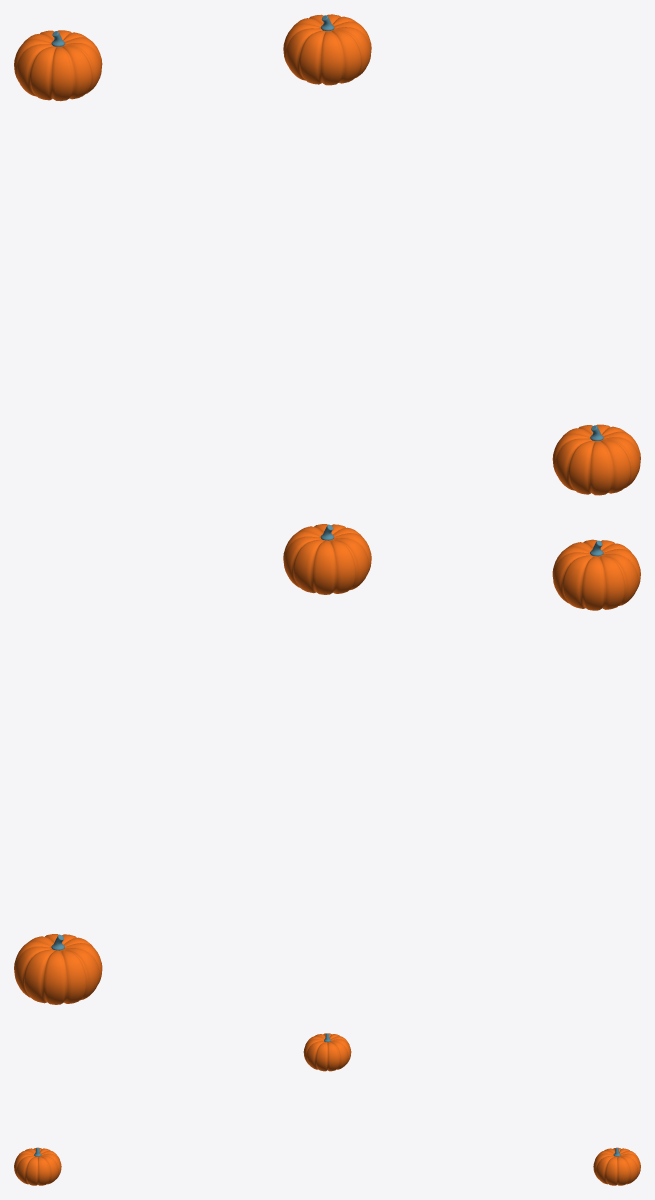
Rendered from PUMPKIN.fbx.
3 renders of one model, top to bottom at view 1: azimuth 30°, elevation 25°; view 2: azimuth 150°, elevation 25°; view 3: azimuth 270°, elevation 25°, orthographic. The views are drawn at different scales.
Parts seen in each view (by area): view 1: Pumpkin_middle, Rumpkin_right, Punpkin_left; view 2: Rumpkin_right, Pumpkin_middle, Punpkin_left; view 3: Punpkin_left, Rumpkin_right, Pumpkin_middle.
Boxes of the visible parts, bbox=[...] form: Pumpkin_middle: bbox=[283, 14, 371, 85]; Rumpkin_right: bbox=[552, 424, 640, 495]; Punpkin_left: bbox=[14, 30, 102, 101]; Rumpkin_right: bbox=[552, 539, 640, 610]; Pumpkin_middle: bbox=[283, 524, 371, 594]; Punpkin_left: bbox=[14, 934, 102, 1004]; Punpkin_left: bbox=[593, 1147, 640, 1185]; Rumpkin_right: bbox=[14, 1147, 61, 1185]; Pumpkin_middle: bbox=[303, 1033, 351, 1071].
Bounding box in the file's own units: 11.29 × 38.36 × 149.
